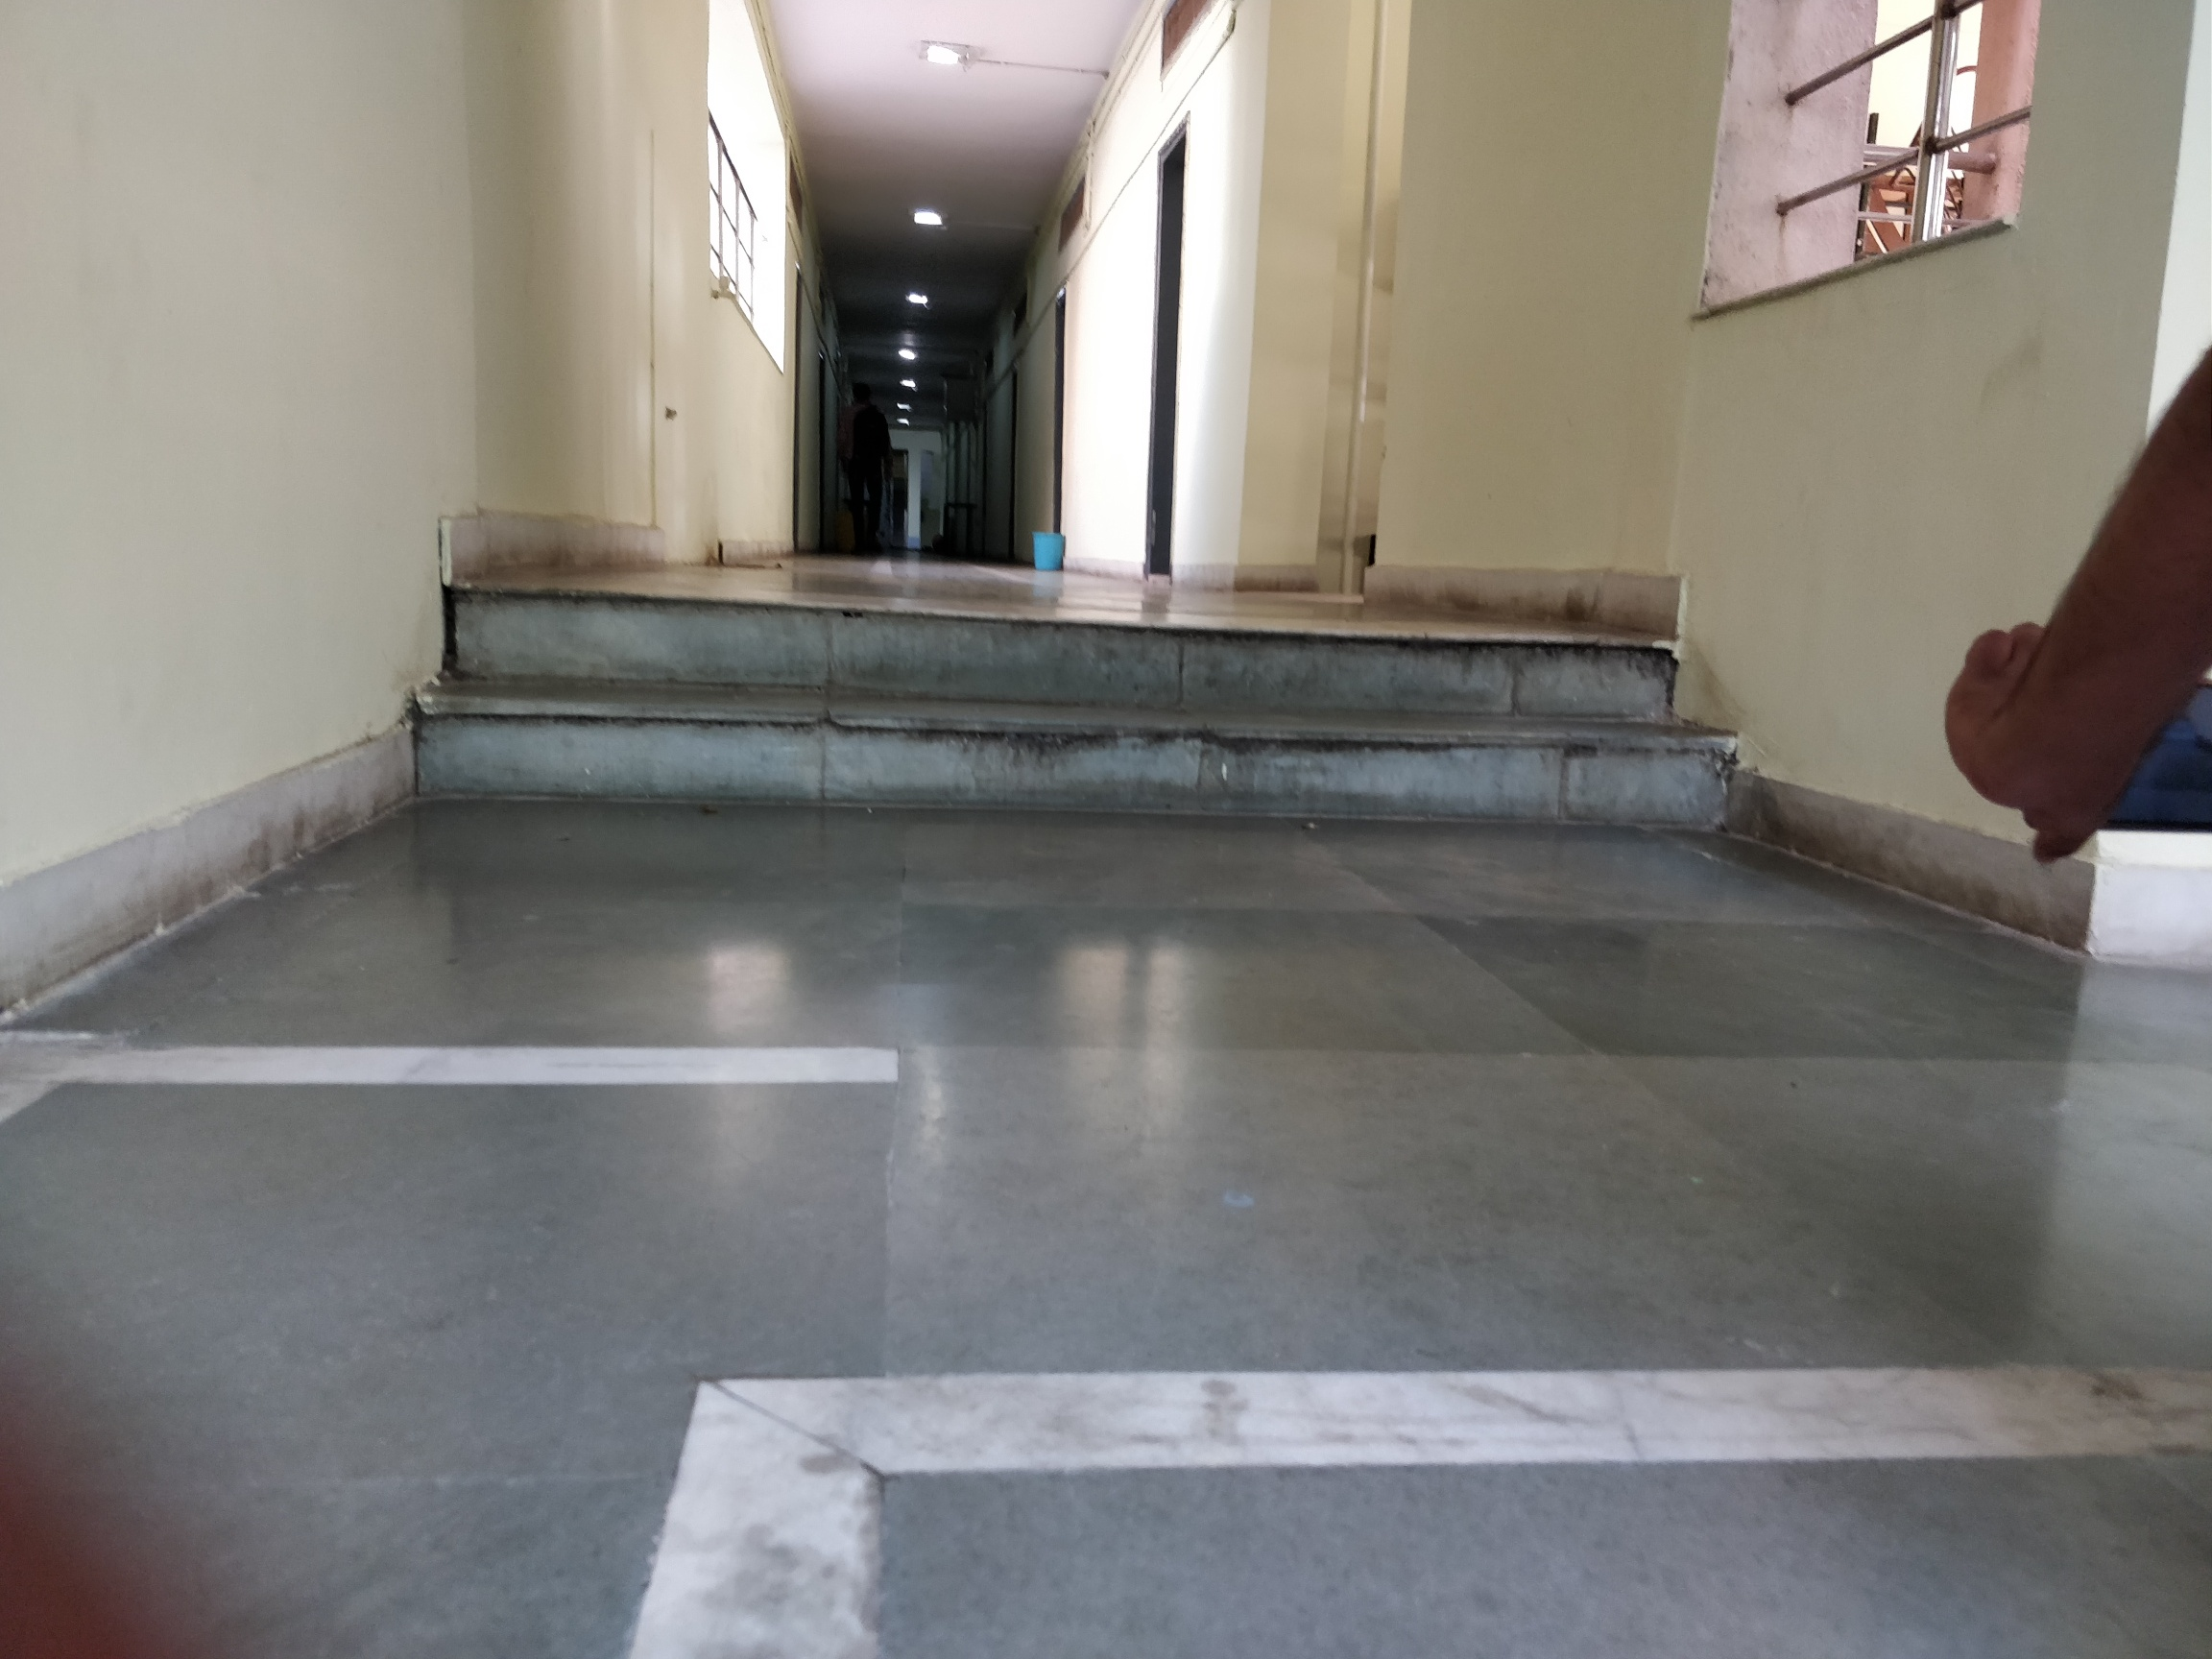stairs_up: (437, 575, 1775, 843)
